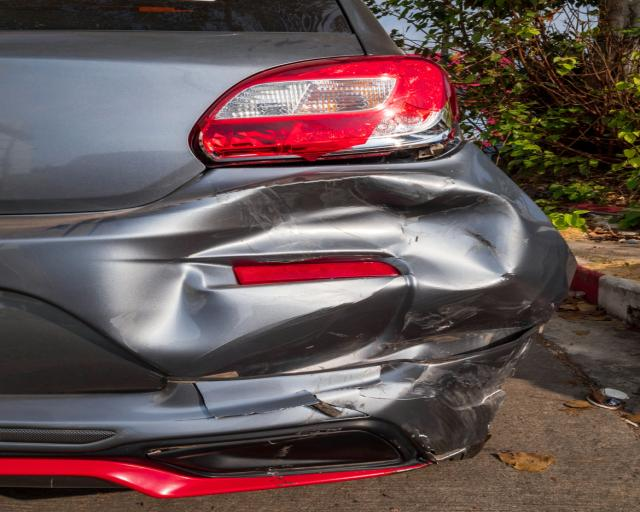crack: (173, 363, 441, 422), (444, 321, 542, 358), (409, 426, 469, 461), (256, 254, 330, 263)
dent: (115, 172, 528, 352)
lamp broken: (192, 57, 459, 164)
scratch: (410, 345, 528, 412)
